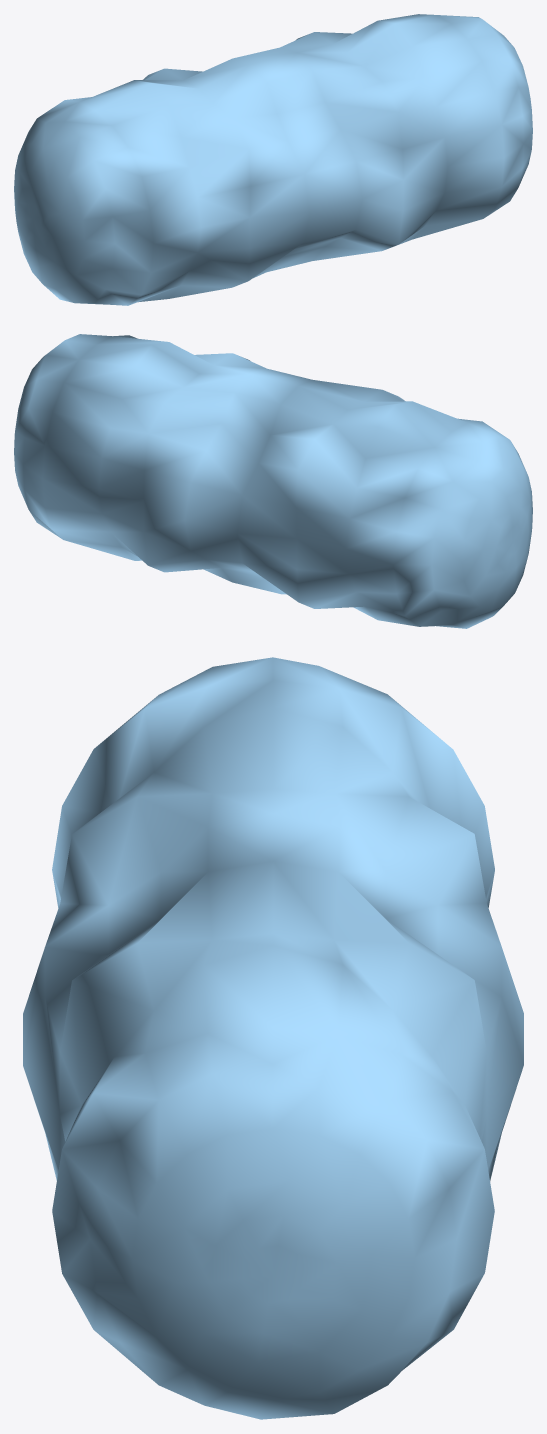
The model's file is p_mesh_oreprospector_use03_watertank_waterblendshape_pose0.fbx.
3 views of the same model, one above another, from view 1: azimuth 30°, elevation 25°; view 2: azimuth 150°, elevation 25°; view 3: azimuth 270°, elevation 25° (orthographic). The views are drawn at different scales.
Parts seen in each view (by area): view 1: obj_interactive_oreprospector_fillingup_pose2.001; view 2: obj_interactive_oreprospector_fillingup_pose2.001; view 3: obj_interactive_oreprospector_fillingup_pose2.001.
Part boxes in pixels (x1=…): obj_interactive_oreprospector_fillingup_pose2.001: x1=14, y1=14, x2=532, y2=305; obj_interactive_oreprospector_fillingup_pose2.001: x1=14, y1=334, x2=532, y2=628; obj_interactive_oreprospector_fillingup_pose2.001: x1=23, y1=657, x2=523, y2=1419.
Bounding box in the file's own units: 8.31 × 3.52 × 3.75.
